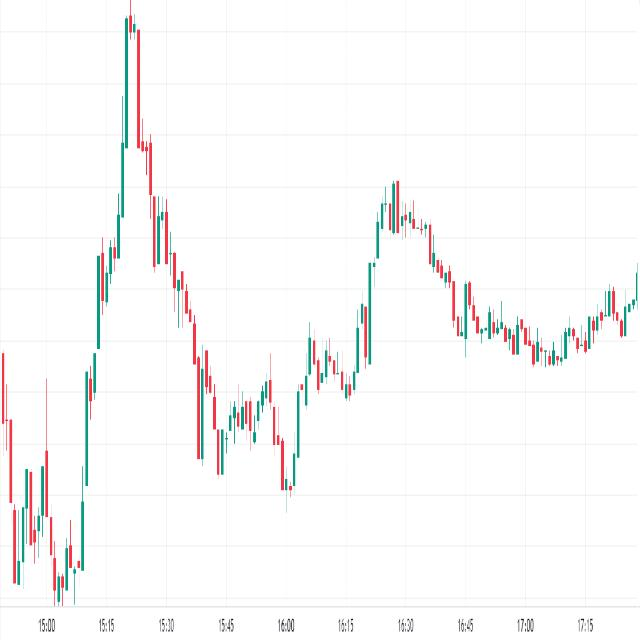Head-Shoulders: (12, 0, 290, 597)
